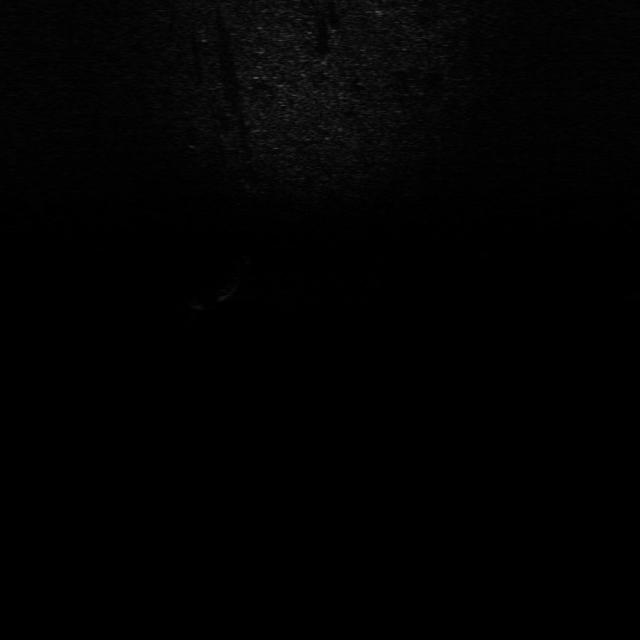human body: (187, 251, 259, 317)
